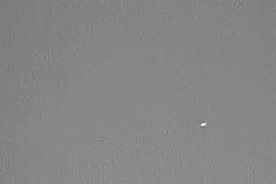Target: (201, 123, 205, 125)
